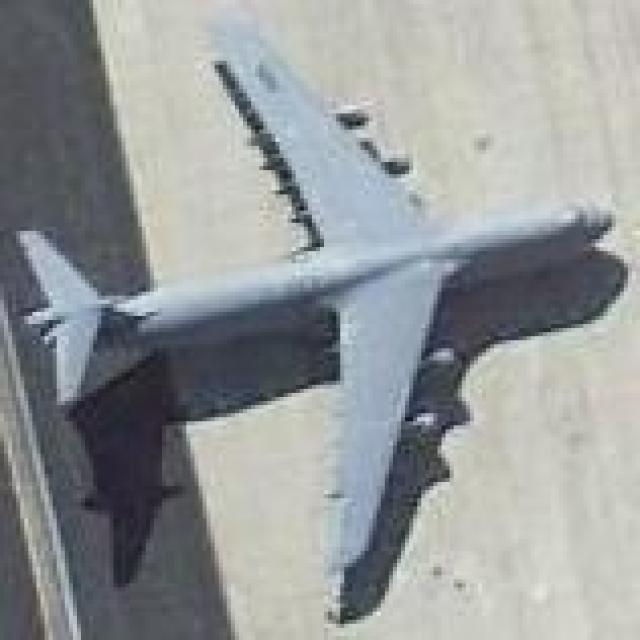C-5_TopDown: (10, 24, 629, 628)
